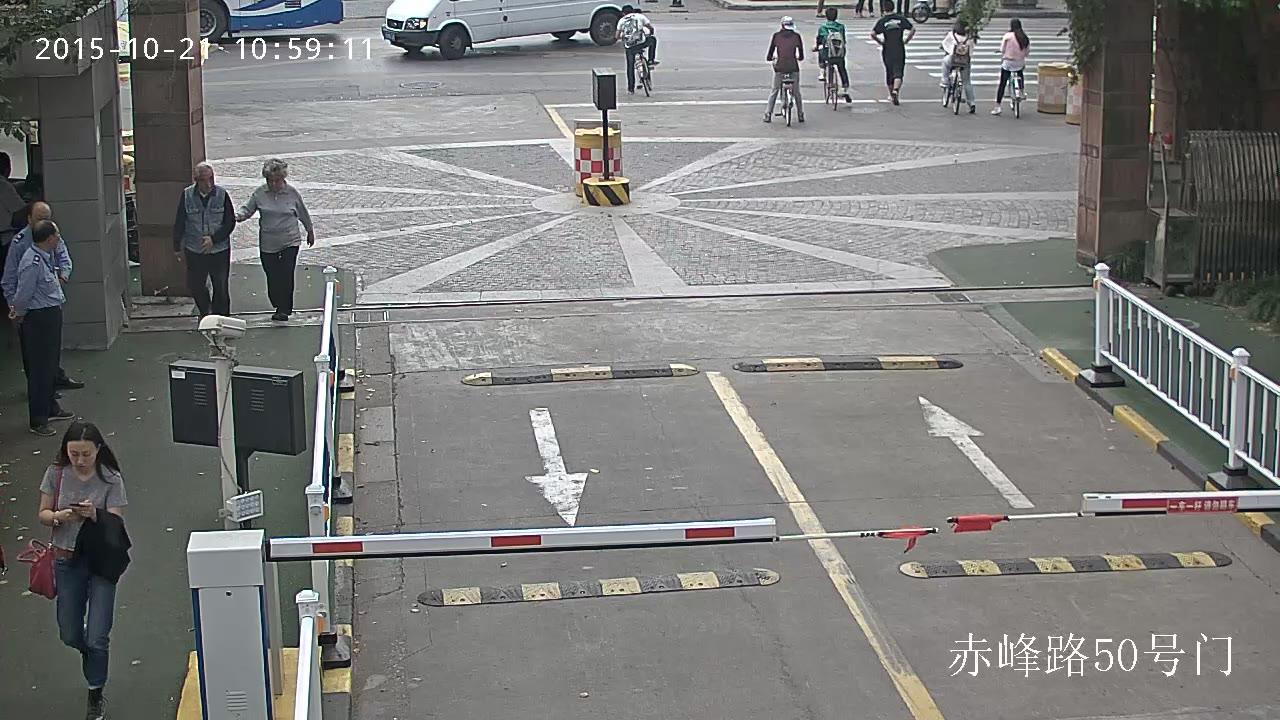person: (16, 422, 130, 720), (0, 200, 85, 399), (7, 219, 75, 436), (234, 157, 314, 321), (173, 162, 234, 329), (870, 0, 915, 105), (762, 15, 804, 126), (0, 150, 28, 312), (762, 15, 804, 122), (615, 4, 660, 96), (811, 7, 851, 110), (989, 18, 1029, 119), (615, 5, 660, 94), (989, 19, 1029, 114), (939, 18, 976, 114), (816, 7, 852, 102), (941, 19, 976, 113)
